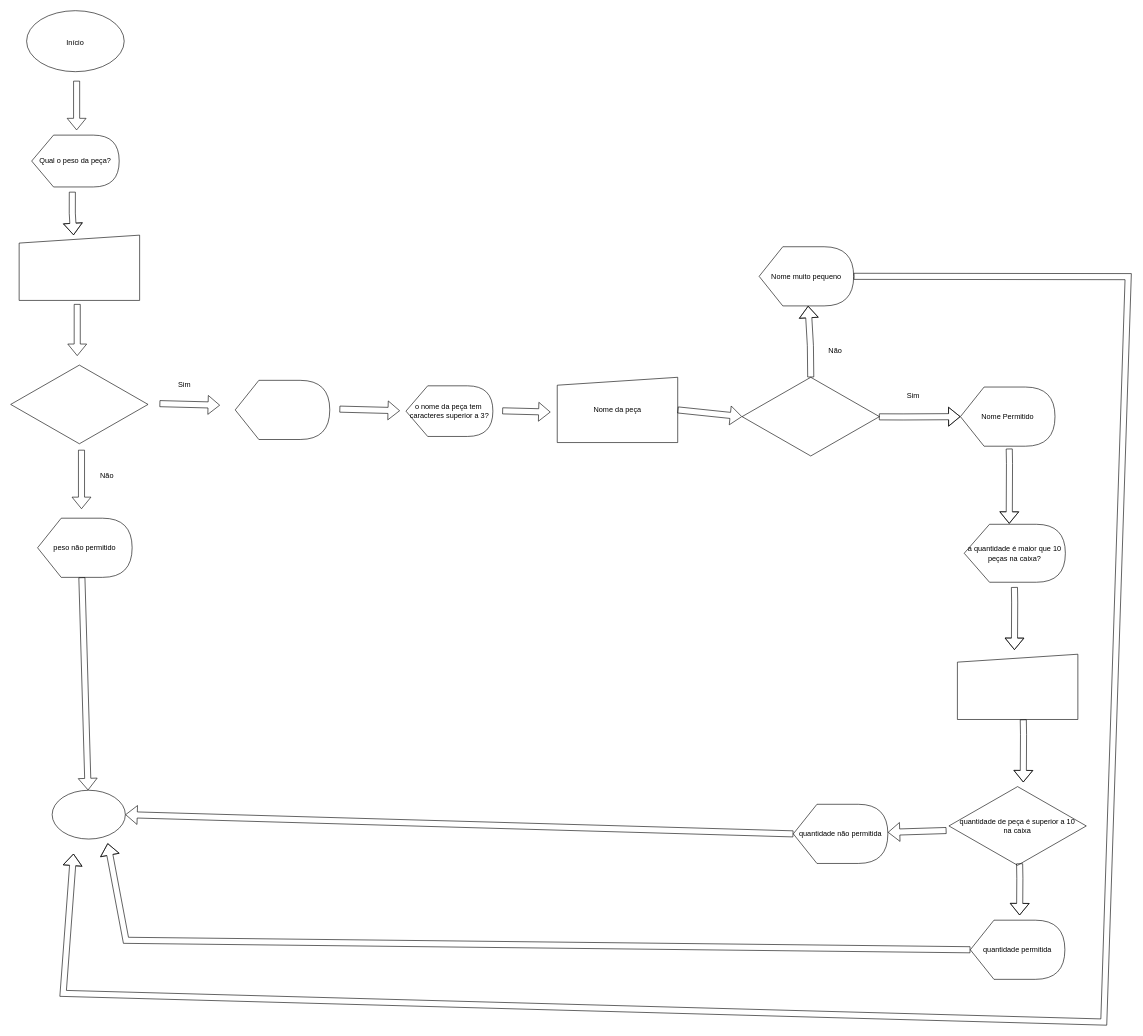
This 1143x1036 diagram has some shape labels left out. The shapes that lost their labels are listed below. From the top down, each one's centre as x and y in pixels, then its label:
pixel 79 267: peso da peça
pixel 79 404: É superior a 100 gramas
pixel 282 410: peso permitido
pixel 810 416: Nome da peça tem caracteres superior a 3
pixel 1017 686: Quantidade de peça na caixa
pixel 88 814: Fim
